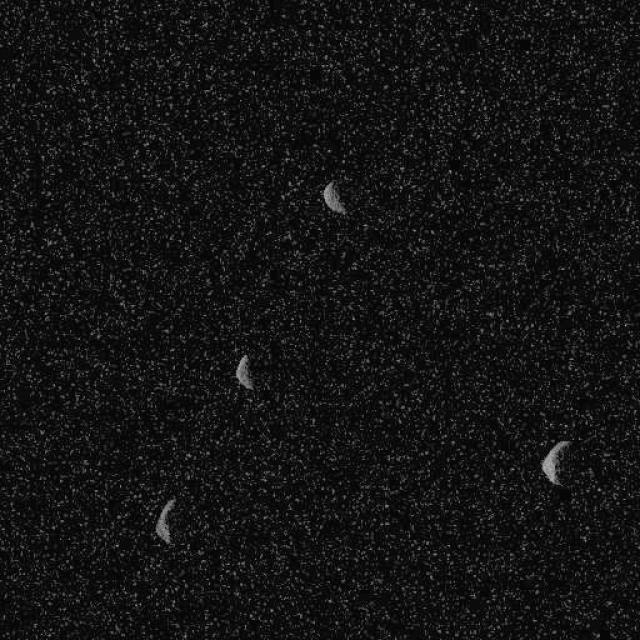D2: (540, 438, 572, 488), (154, 496, 176, 545), (322, 179, 346, 215), (234, 354, 254, 390)
